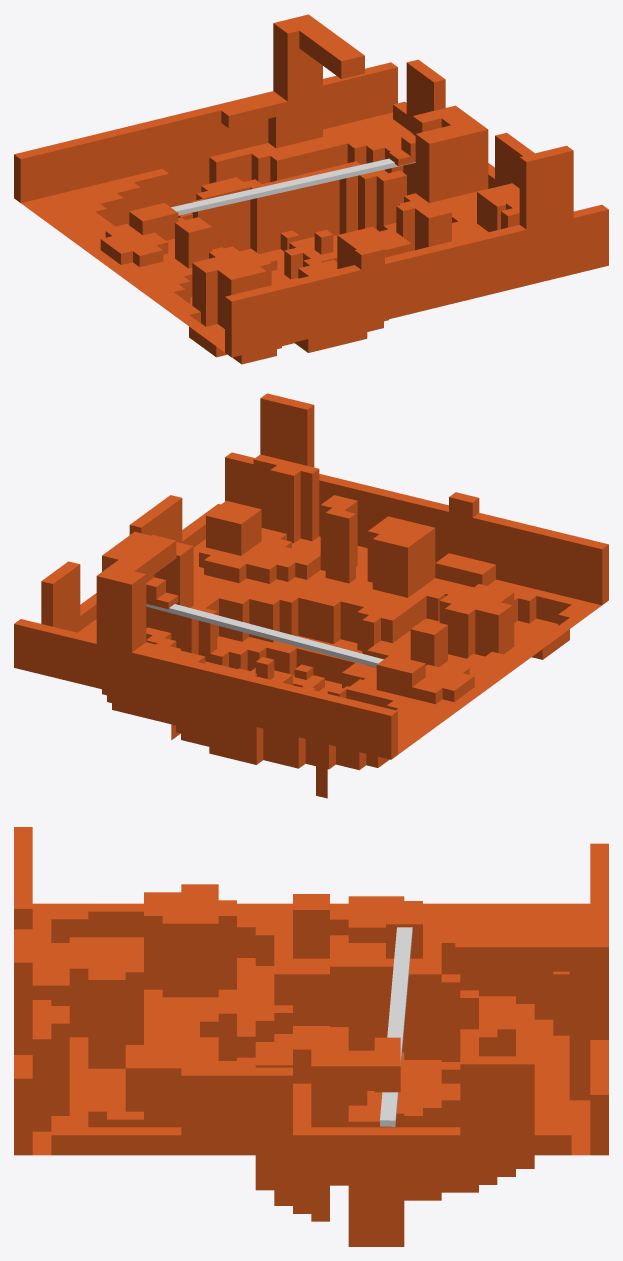
Rendered from world5.glb.
3 views of the same model, one above another, from view 1: azimuth 30°, elevation 25°; view 2: azimuth 150°, elevation 25°; view 3: azimuth 270°, elevation 25° (orthographic). The views are drawn at different scales.
Parts seen in each view (by area): view 1: Plane, Cube; view 2: Plane, Cube; view 3: Plane, Cube.
Part boxes in pixels (left/top/right/bottom): Plane: left=14, top=14, right=608, bottom=364; Cube: left=171, top=158, right=415, bottom=215; Plane: left=14, top=393, right=608, bottom=798; Cube: left=146, top=604, right=383, bottom=667; Plane: left=14, top=827, right=608, bottom=1246; Cube: left=380, top=927, right=412, bottom=1126.
Bounding box in the file's own units: 400 × 234 × 400.
